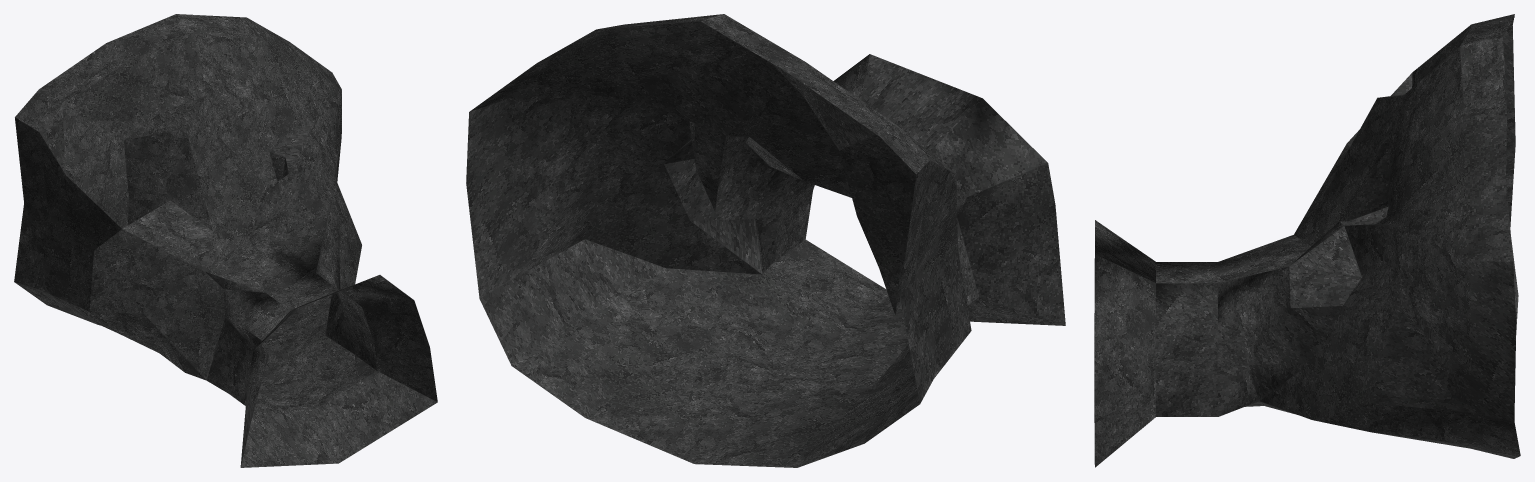
File: CaveCrawlspacetransition2.glb
3 views of the same model, side by side, from view 1: azimuth 30°, elevation 25°; view 2: azimuth 150°, elevation 25°; view 3: azimuth 270°, elevation 25° (orthographic). The views are drawn at different scales.
Parts seen in each view (by area): view 1: Cube.132; view 2: Cube.132; view 3: Cube.132.
Boxes of the visible parts, x1,y1,x2,y2 form: Cube.132: [14, 14, 437, 467]; Cube.132: [466, 14, 1065, 467]; Cube.132: [1094, 14, 1520, 467].
Size of the model in its own units: 7.5 by 7.4 by 6.87.
Materials: 1 (1 with a texture image).
